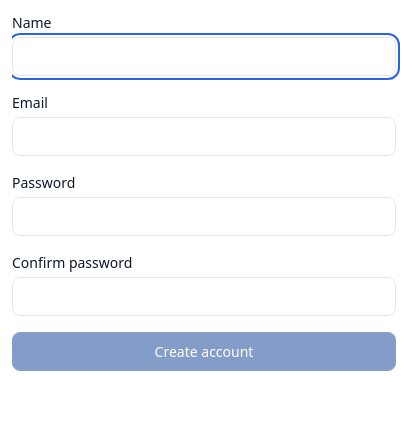
SignupForm › shows PasswordStrengthIndicator when password has content
The width and height of the screenshot is (417, 432).
In the password field labelled "Password": (204, 216) [12,197,396,236], type "abc"
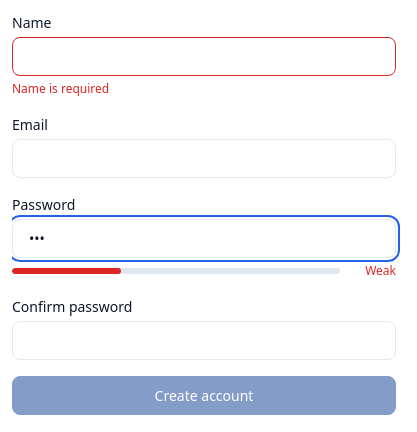
Expected: the element showing "Weak" is shown, [12,262,396,280]
